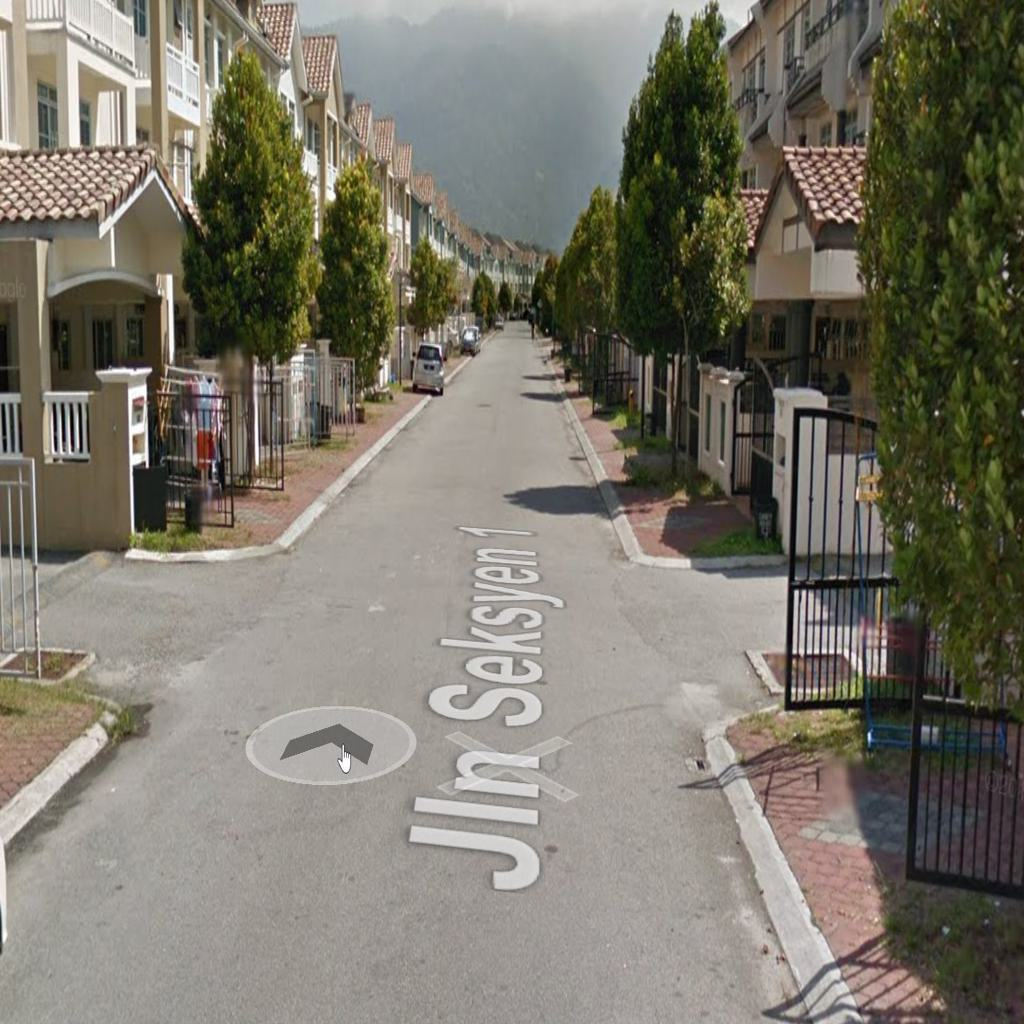Junction: (5, 503, 317, 745), (606, 529, 893, 759)
